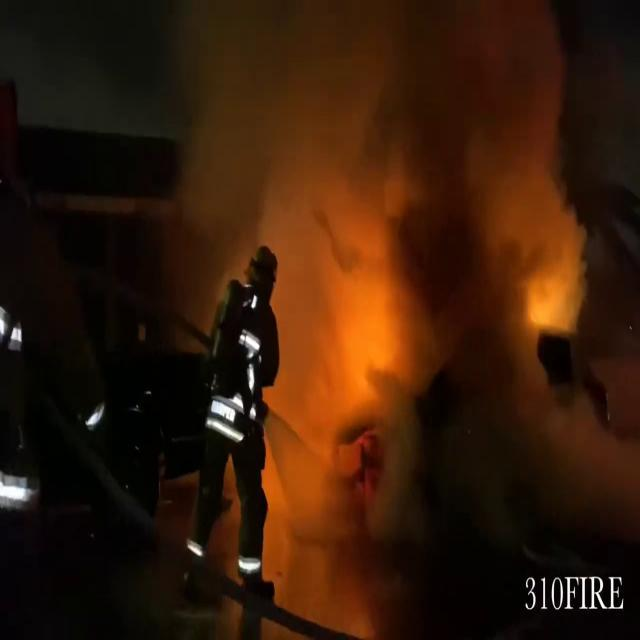Smoke: (130, 0, 601, 349)
